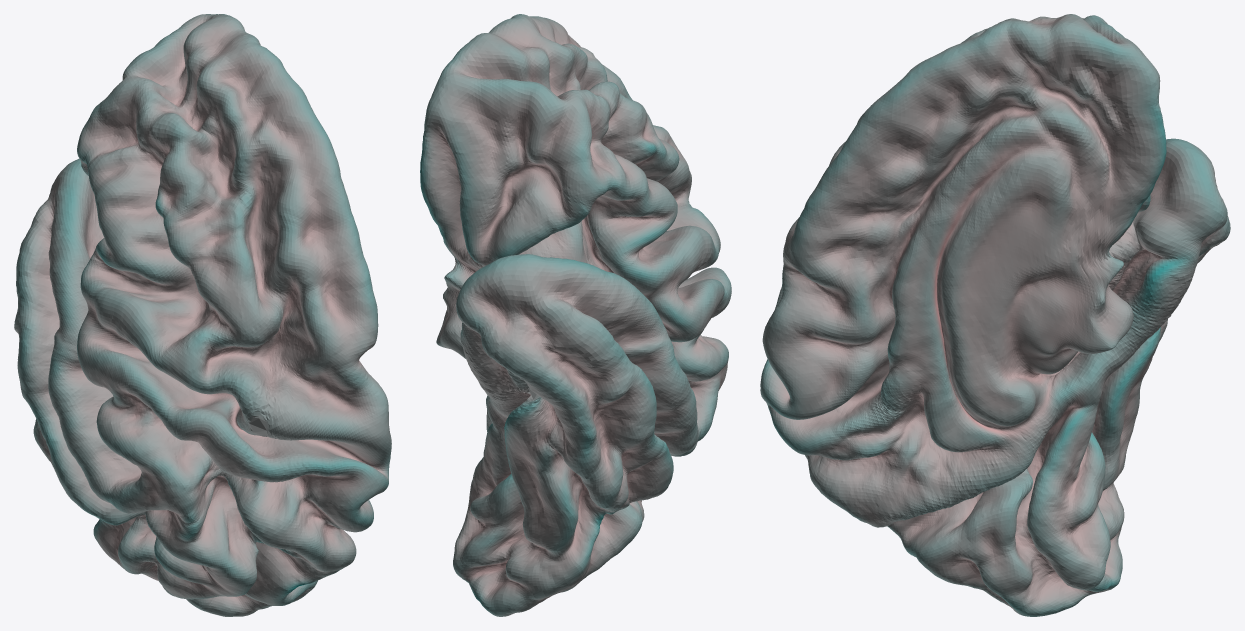
Rendered from cortex_lh.glb.
The picture shows the model from 3 angles, left to right: view 1: azimuth 30°, elevation 25°; view 2: azimuth 150°, elevation 25°; view 3: azimuth 270°, elevation 25°; orthographic projection. The views are drawn at different scales.
Visible parts, largest first — view 1: world; view 2: world; view 3: world.
Boxes of the visible parts, left/top/right/bottom form: world: left=14, top=14, right=391, bottom=616; world: left=420, top=14, right=731, bottom=616; world: left=760, top=14, right=1230, bottom=616.
Size of the model in its own units: 70.58 by 174 by 125.
